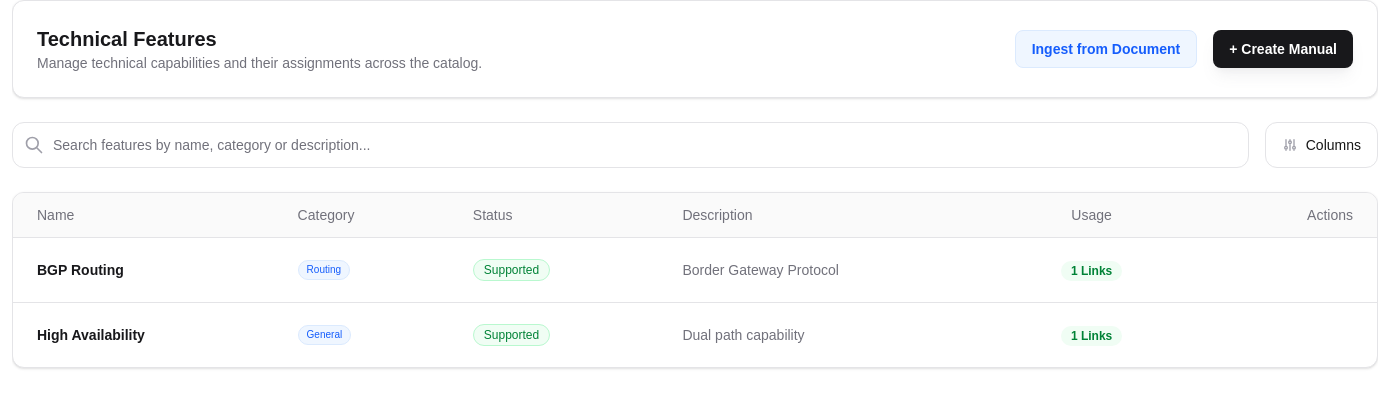
FeatureList Improvements › toggles column visibility correctly
The width and height of the screenshot is (1390, 408).
Check: the text "Border Gateway Protocol" is shown, box 658,238 -> 1000,302
# Open columns dropdown (we will implement this)
Click the button "Columns". click: (1321, 145)
box: 1265,122 -> 1378,168
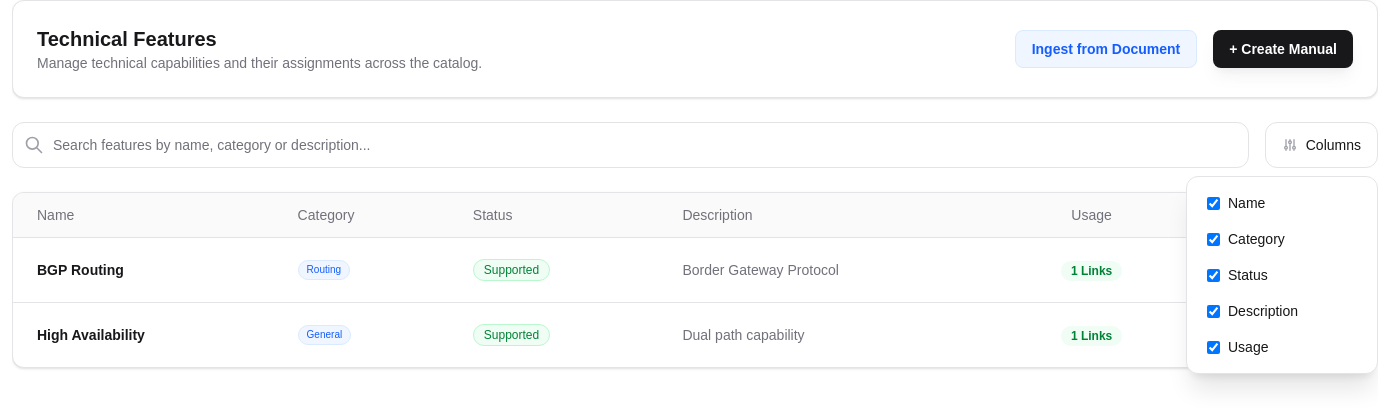
# Toggle 'Description' off
Click the checkbox labelled "description". click: (1214, 311)
box: 1207,304 -> 1220,318
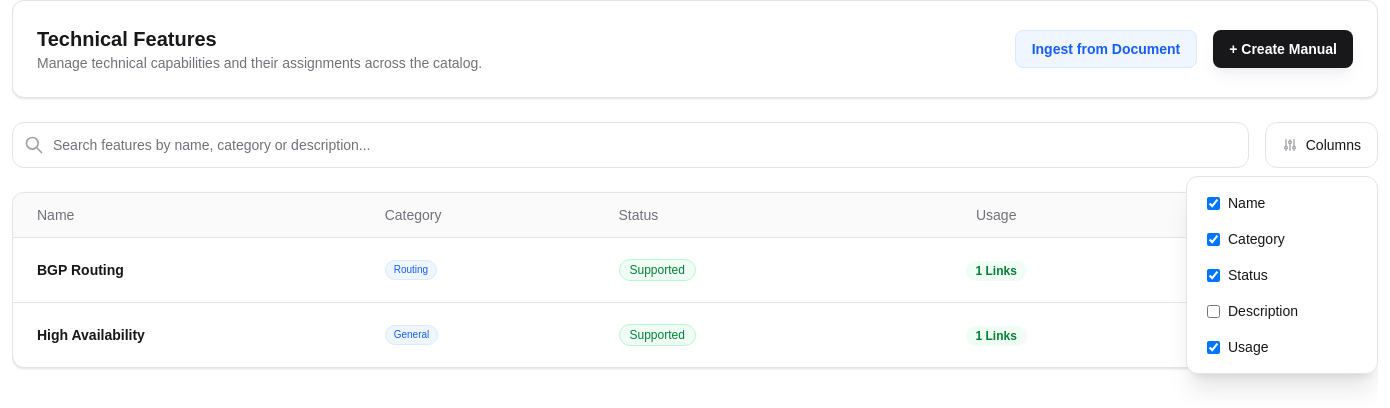
Check: the text "Border Gateway Protocol" is gone
